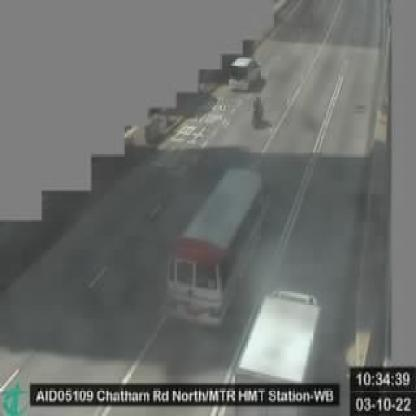Bus: (164, 168, 260, 323)
Car: (235, 291, 321, 414), (228, 55, 258, 92)
